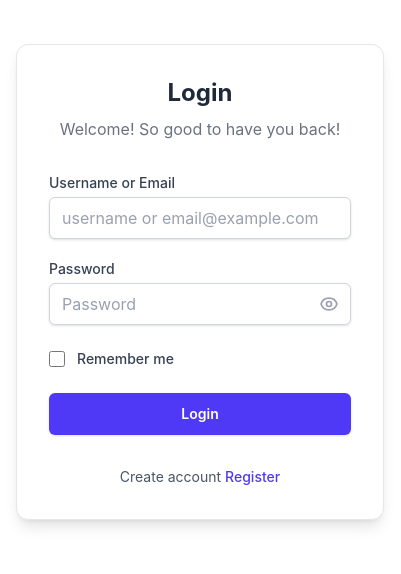
Test: Login Component › should extract error message from err.data.message
Type "test@test.com" into the field with id "email" at (200, 218), box top-left (49, 197), bottom-right (351, 239)
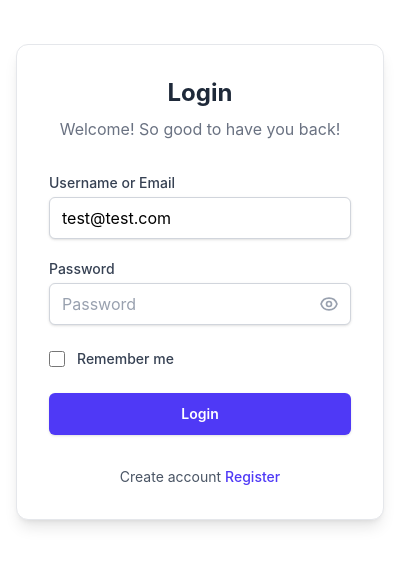
Type "password123" into the password field with placeholder "Password" at (200, 304), box top-left (49, 283), bottom-right (351, 325)
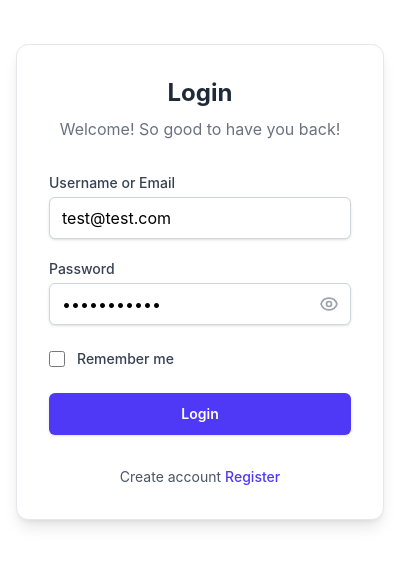
Submit the form
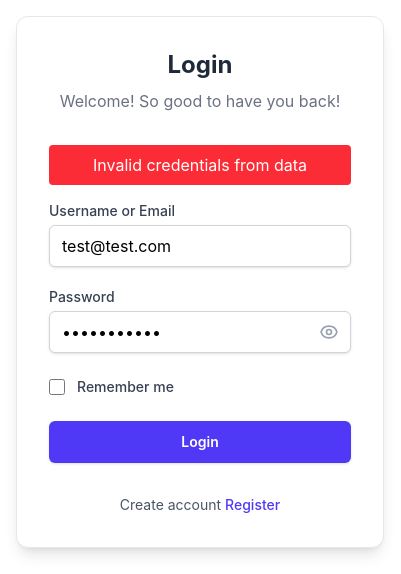
Expected: the text "Invalid credentials from data" is shown, top-left (93, 155), bottom-right (307, 175)
